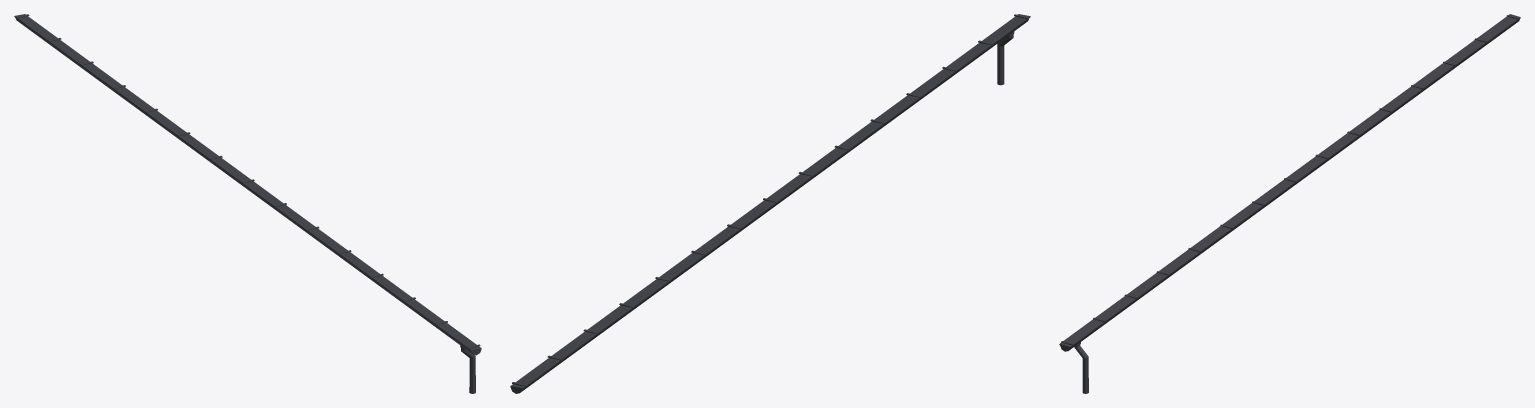
Rendered from SM_Fixture_GutterShedSide_L_01.gltf.
The picture shows the model from 3 angles, left to right: view 1: azimuth 30°, elevation 25°; view 2: azimuth 150°, elevation 25°; view 3: azimuth 330°, elevation 25°; orthographic projection. The views are drawn at different scales.
Visible parts, largest first — view 1: SM_Fixture_GutterShedSide_L_01; view 2: SM_Fixture_GutterShedSide_L_01; view 3: SM_Fixture_GutterShedSide_L_01.
Part boxes in pixels (left/top/right/bottom): SM_Fixture_GutterShedSide_L_01: left=14, top=14, right=481, bottom=393; SM_Fixture_GutterShedSide_L_01: left=510, top=14, right=1030, bottom=393; SM_Fixture_GutterShedSide_L_01: left=1059, top=14, right=1520, bottom=393.
Bounding box in the file's own units: 0.1827 × 0.565 × 8.41.
1 material, 1 textured.
